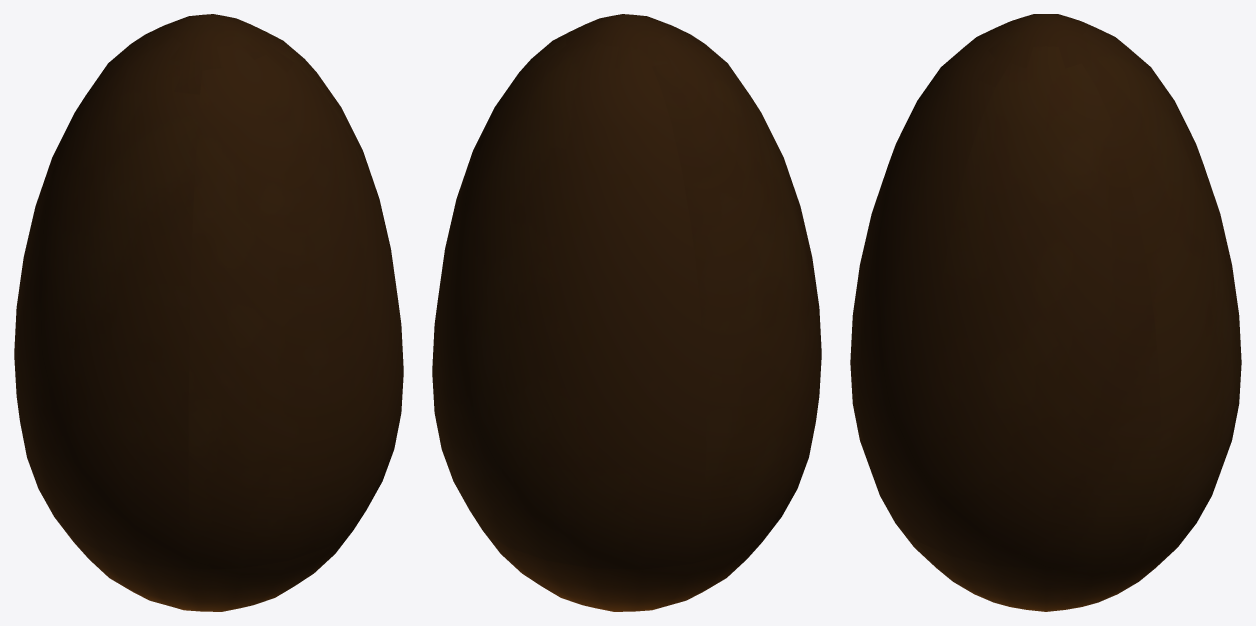
File: aconeA_v2.fbx
3 renders of one model, left to right at view 1: azimuth 30°, elevation 25°; view 2: azimuth 150°, elevation 25°; view 3: azimuth 270°, elevation 25°, orthographic.
Parts seen in each view (by area): view 1: acone; view 2: acone; view 3: acone.
Boxes of the visible parts, bbox=[...] form: acone: bbox=[14, 14, 403, 611]; acone: bbox=[432, 14, 821, 611]; acone: bbox=[850, 14, 1241, 611].
Size of the model in its own units: 1.51 by 2.49 by 1.51.
